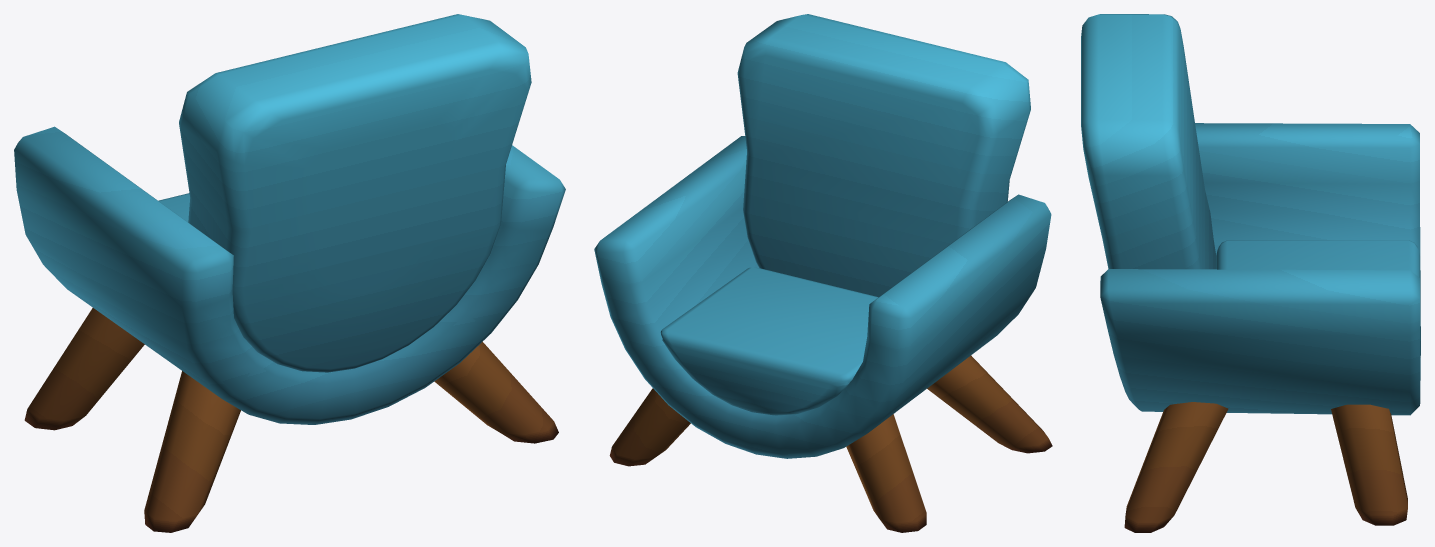
File: Chair_Blue.fbx
3 views of the same model, side by side, from view 1: azimuth 30°, elevation 25°; view 2: azimuth 150°, elevation 25°; view 3: azimuth 270°, elevation 25° (orthographic). The views are drawn at different scales.
Visible parts, largest first — view 1: Chair; view 2: Chair; view 3: Chair.
Part boxes in pixels (<box>): Chair: <box>14,14,565,532</box>; Chair: <box>594,14,1052,532</box>; Chair: <box>1081,14,1420,532</box>.
Bounding box in the file's own units: 93.55 × 94.76 × 76.57.
